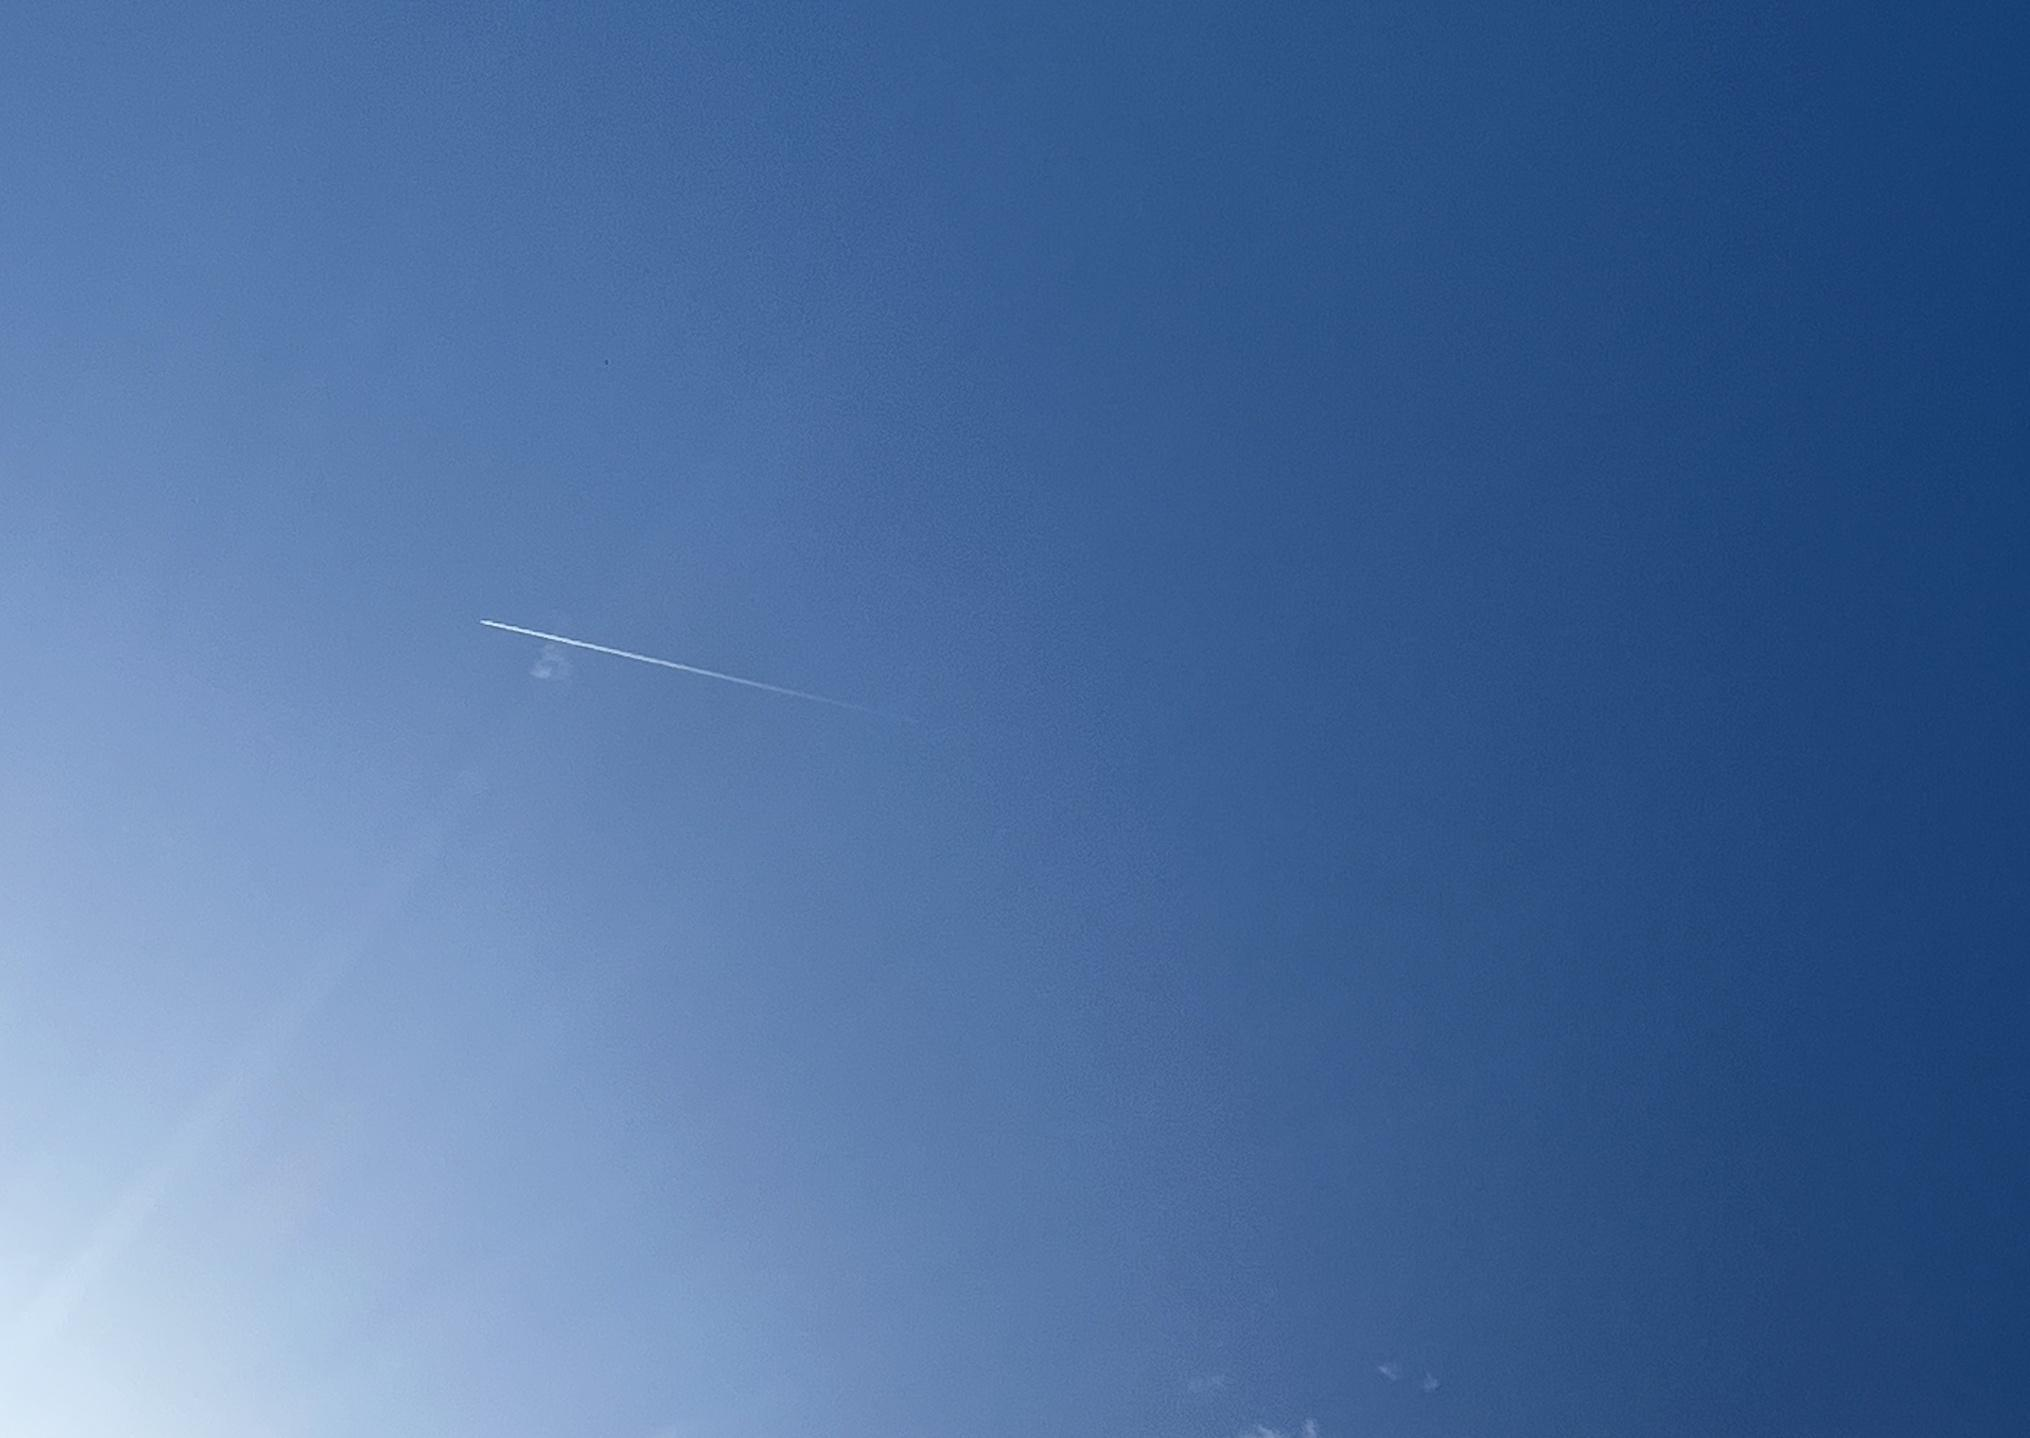Plane: (457, 598, 922, 738)
